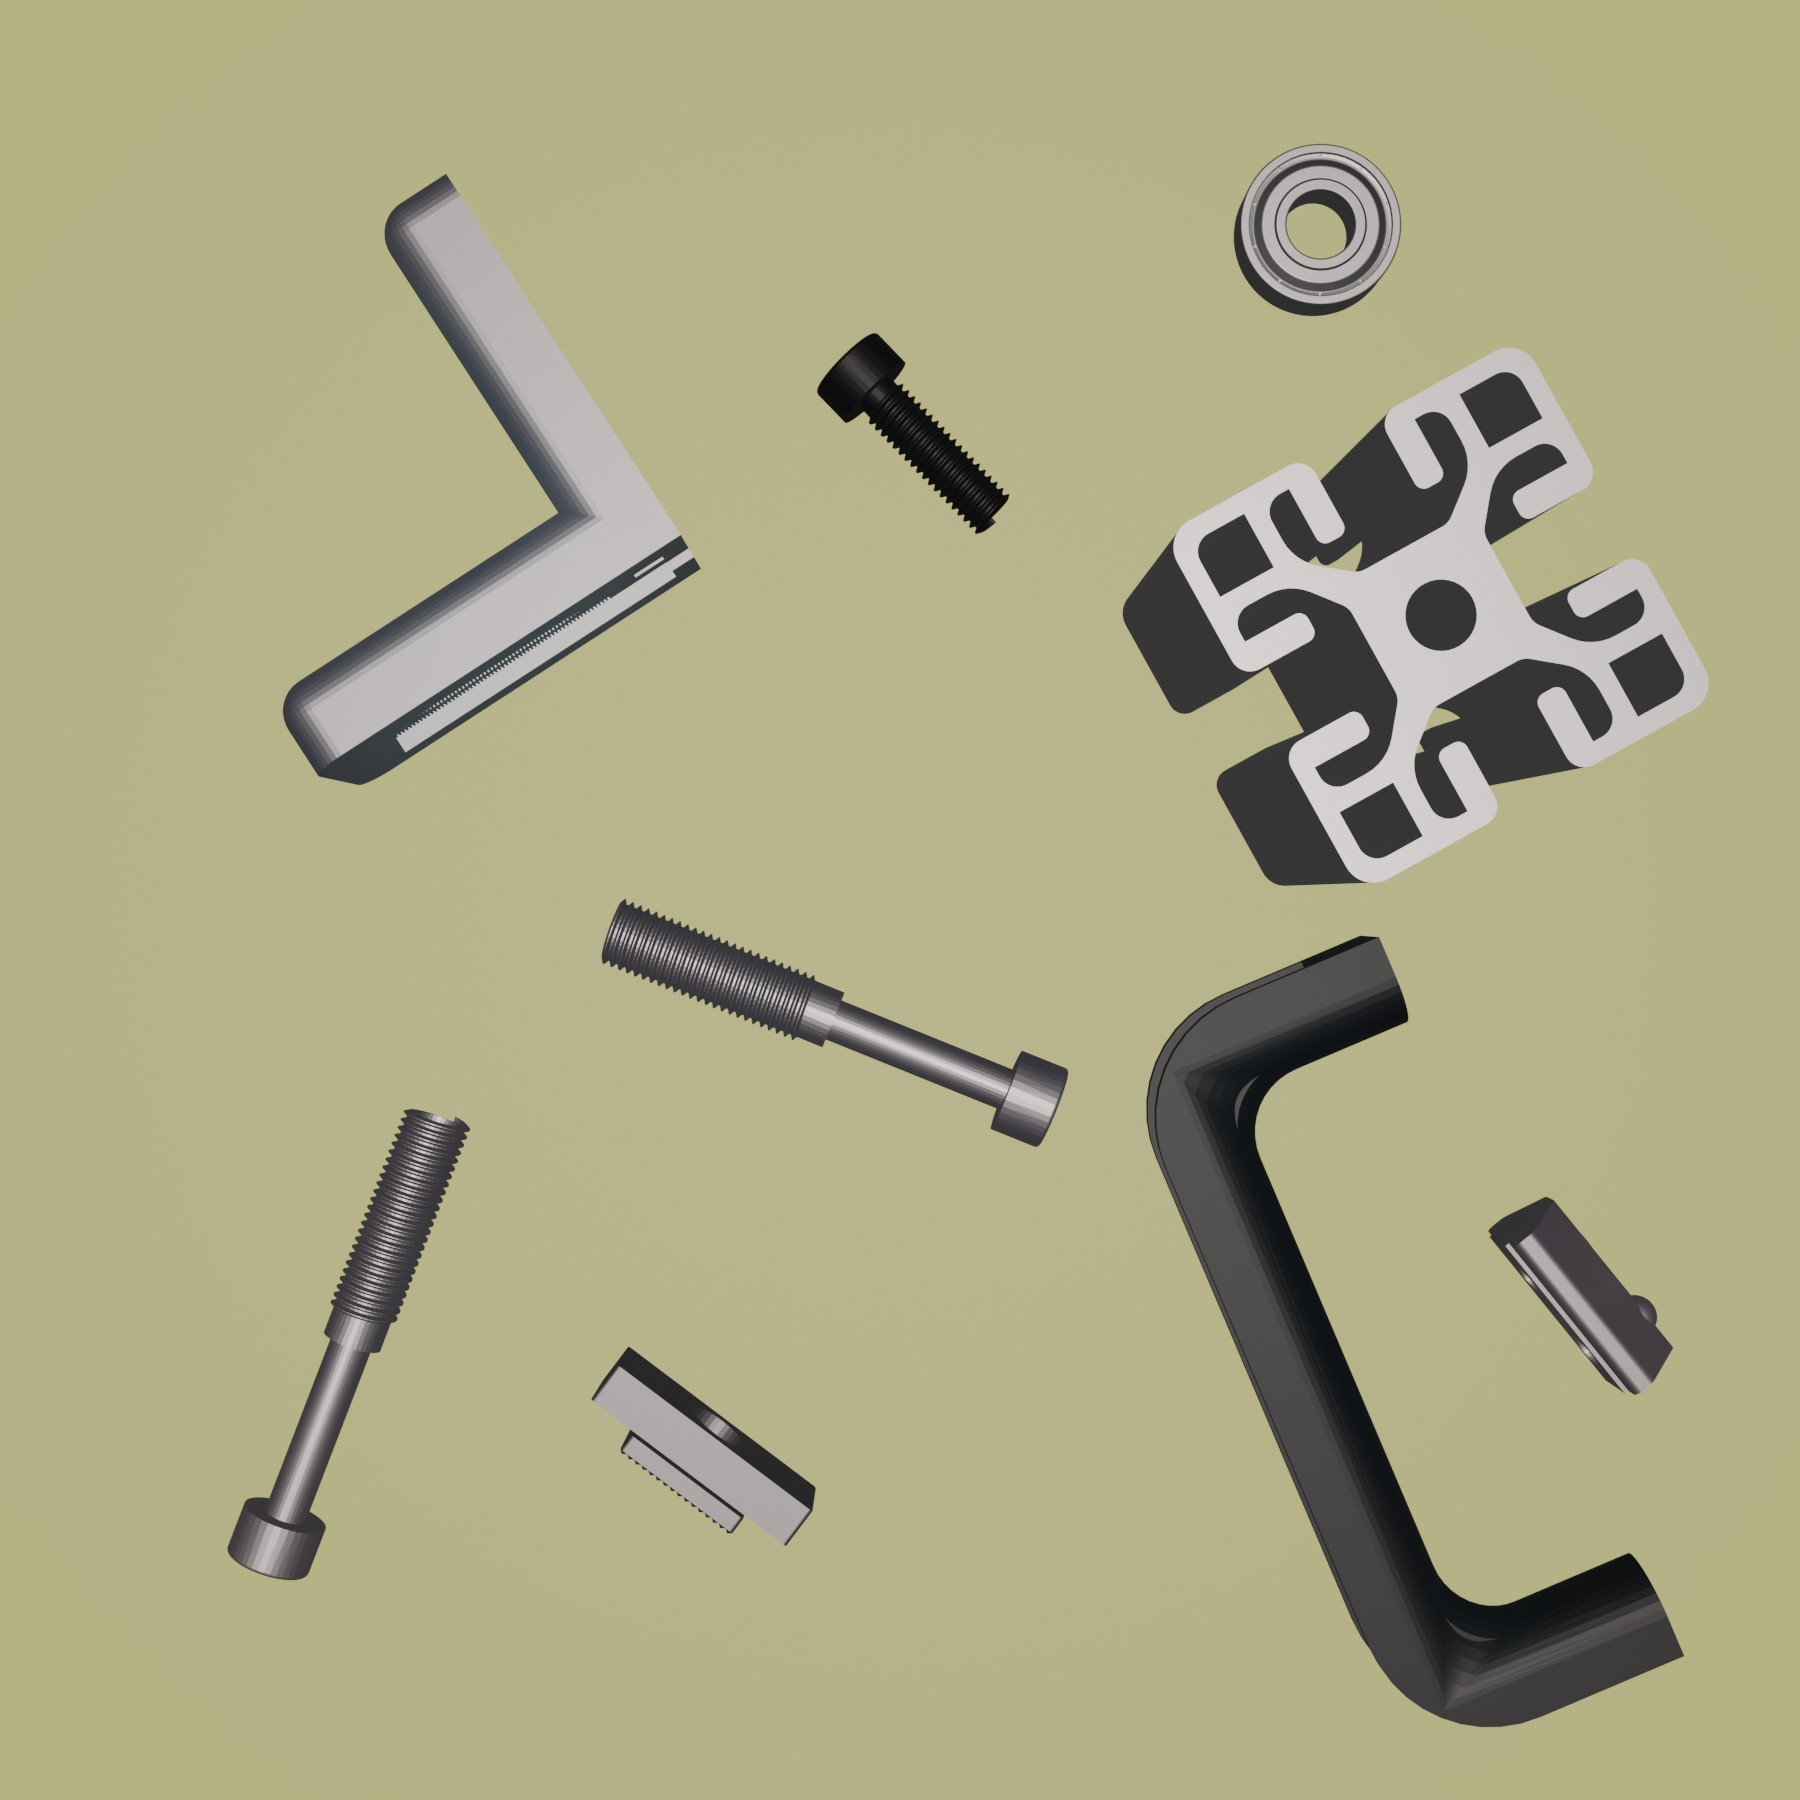Aluminium Extension: (1119, 348, 1713, 888)
Ball Bearing: (1231, 138, 1404, 318)
Multiwinkel: (280, 168, 702, 790)
Pull Handle: (1142, 931, 1686, 1731)
Shoulder Socket Head Cap Screw: (597, 895, 1071, 1147), (224, 1104, 471, 1581)
Socket Head Cap Screw: (813, 330, 1010, 537)
T Nut Square: (588, 1345, 819, 1549)
T Spring Nut: (1487, 1192, 1675, 1399)
